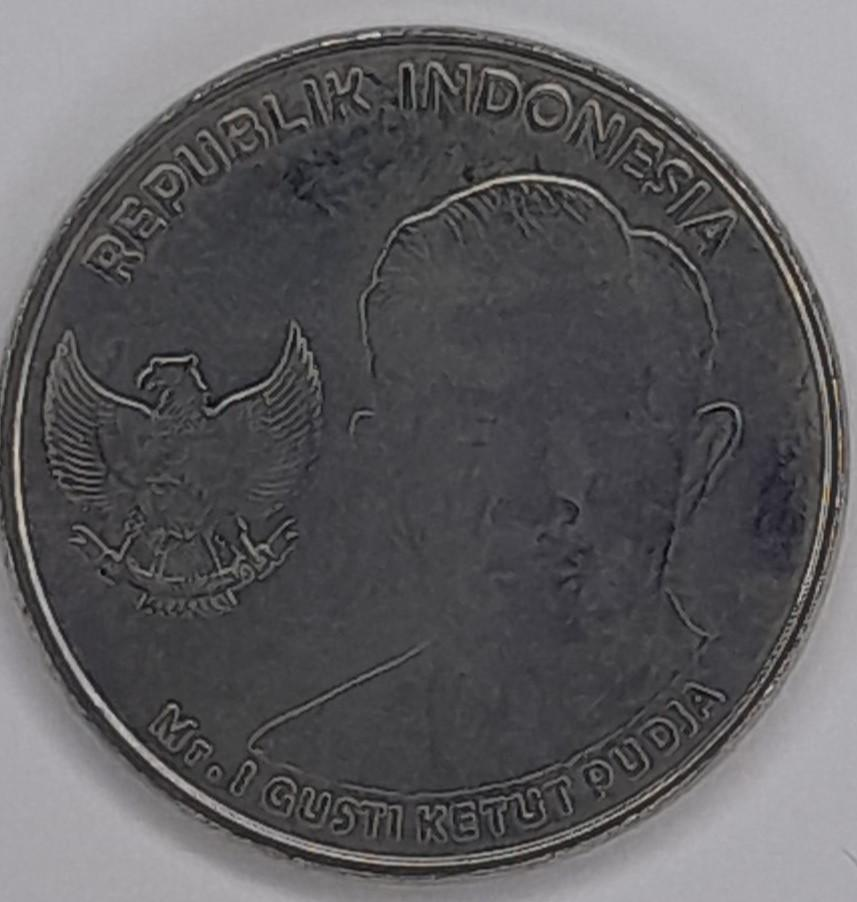coin_1000_e2016: (15, 18, 846, 902)
